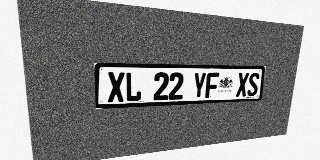2: (153, 72, 169, 100), (169, 72, 184, 100)
F: (205, 72, 219, 98)
L: (125, 72, 142, 102)
S: (247, 73, 260, 96)
X: (107, 72, 125, 102), (236, 73, 249, 97)
Y: (192, 72, 206, 99)
